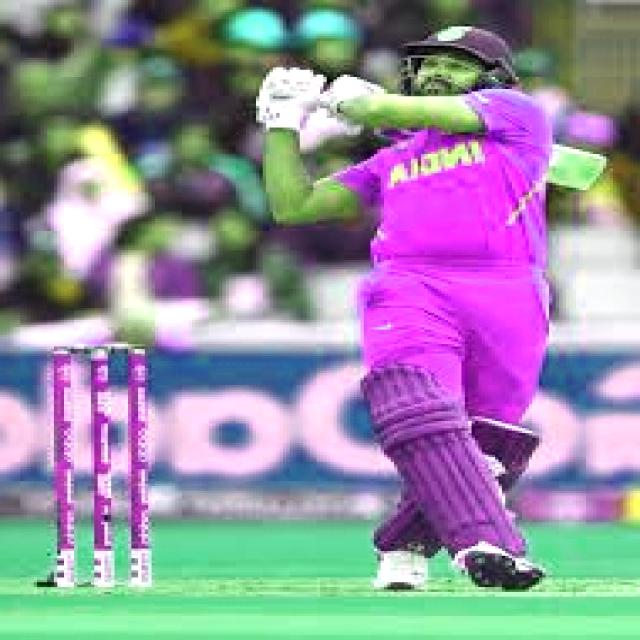toe: (556, 147, 611, 194)
